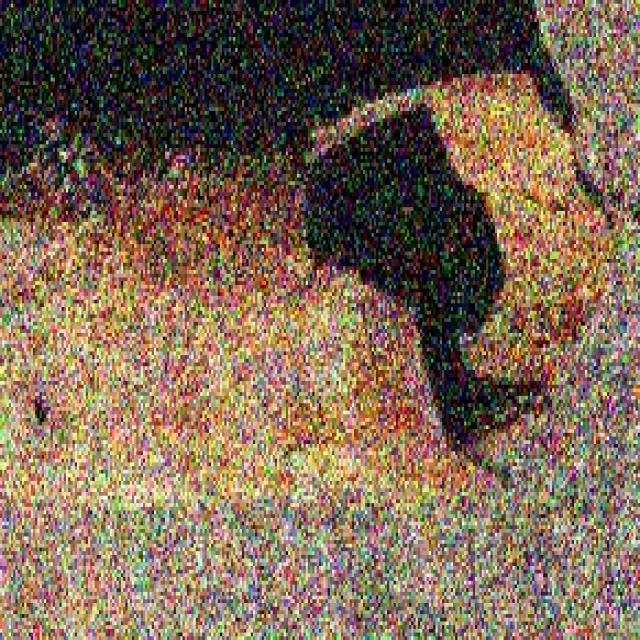rust: (0, 96, 323, 495)
